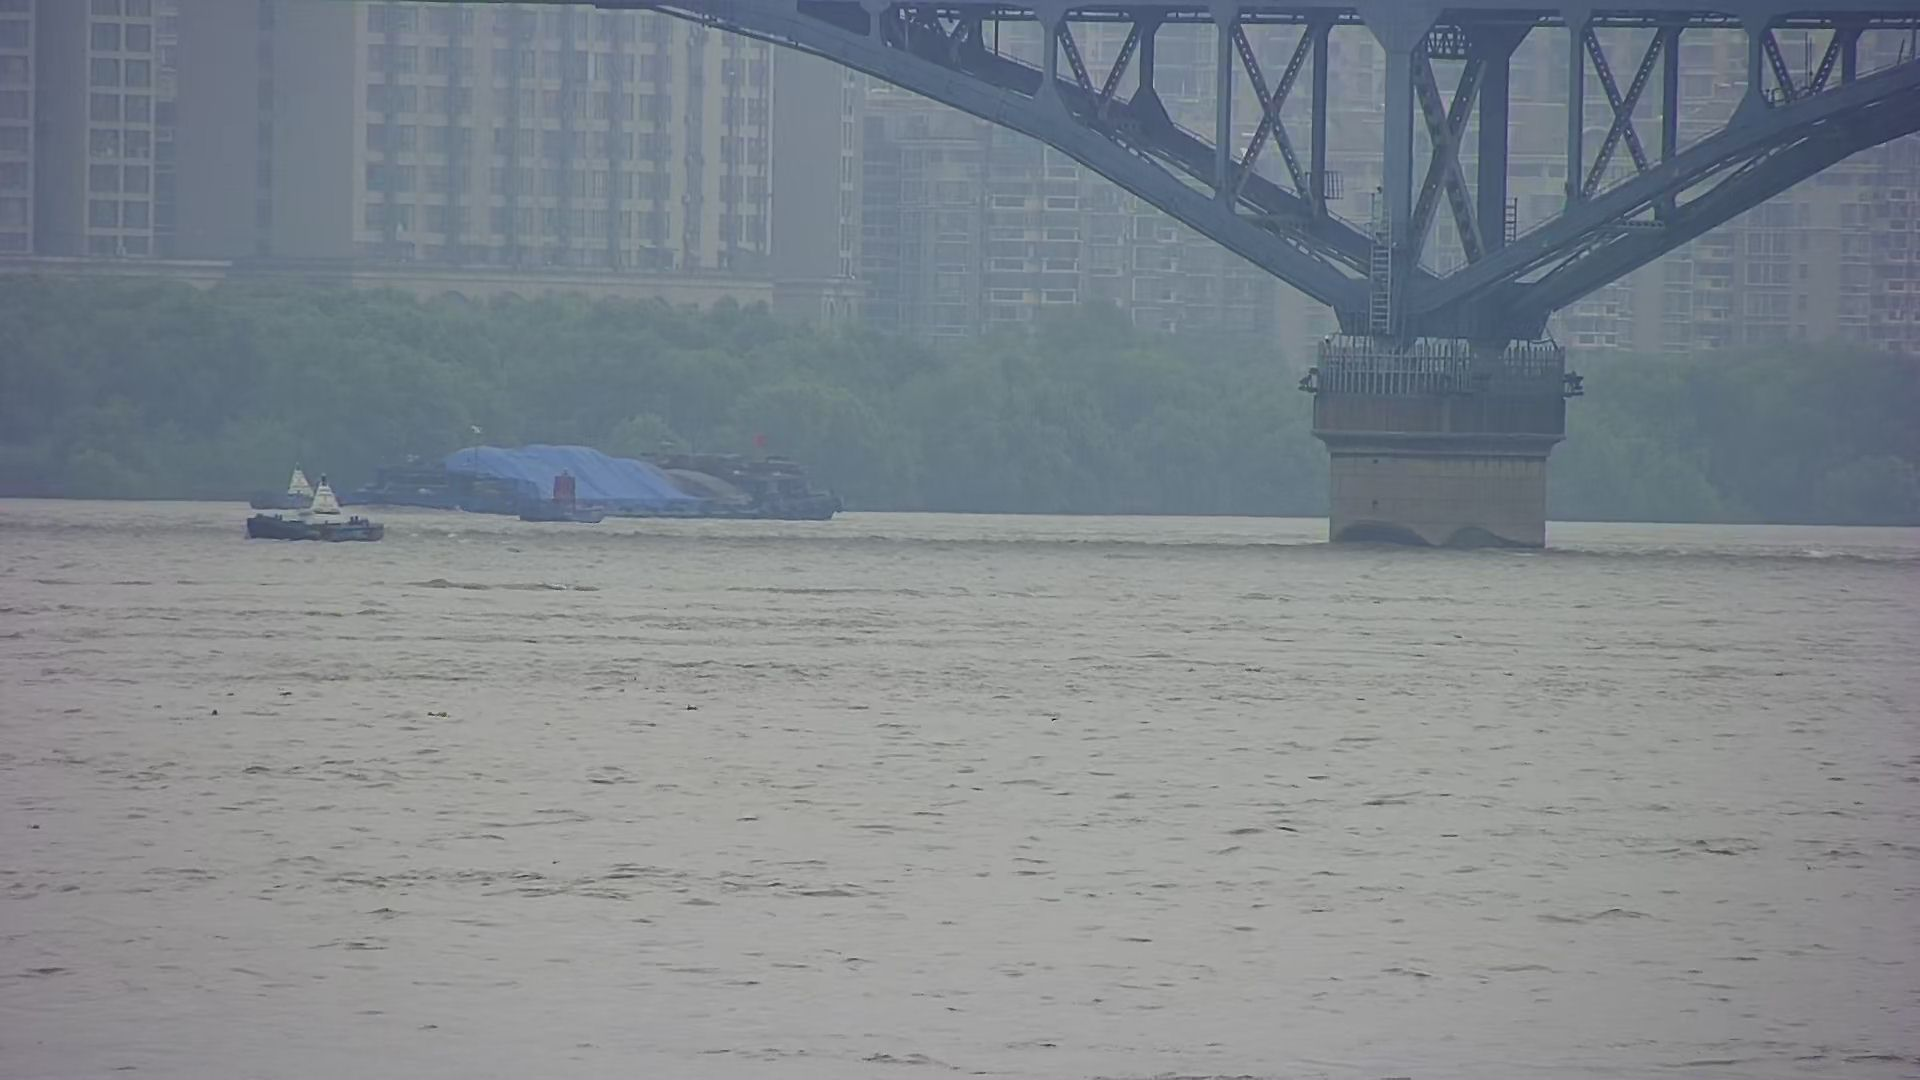boat: (240, 468, 394, 553), (512, 468, 617, 537), (247, 450, 340, 512)
bridge: (571, 1, 1912, 558)
ship: (338, 418, 862, 531)
